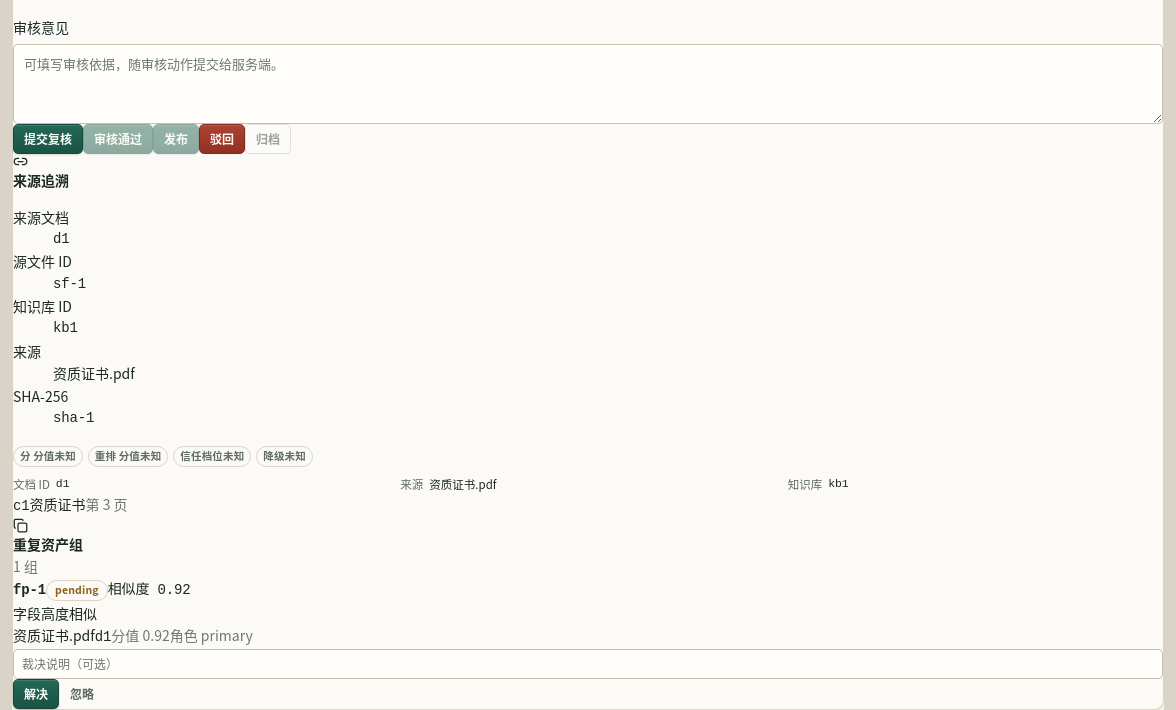
Test: KnowledgeAssetPanel › 重复组裁决提交 decide/note 并展示服务端返回的组状态
The width and height of the screenshot is (1176, 710).
(page scrolled)
In the field named "重复组 g1 处理意见": (588, 664) [13,648,1163,678], type "已确认"
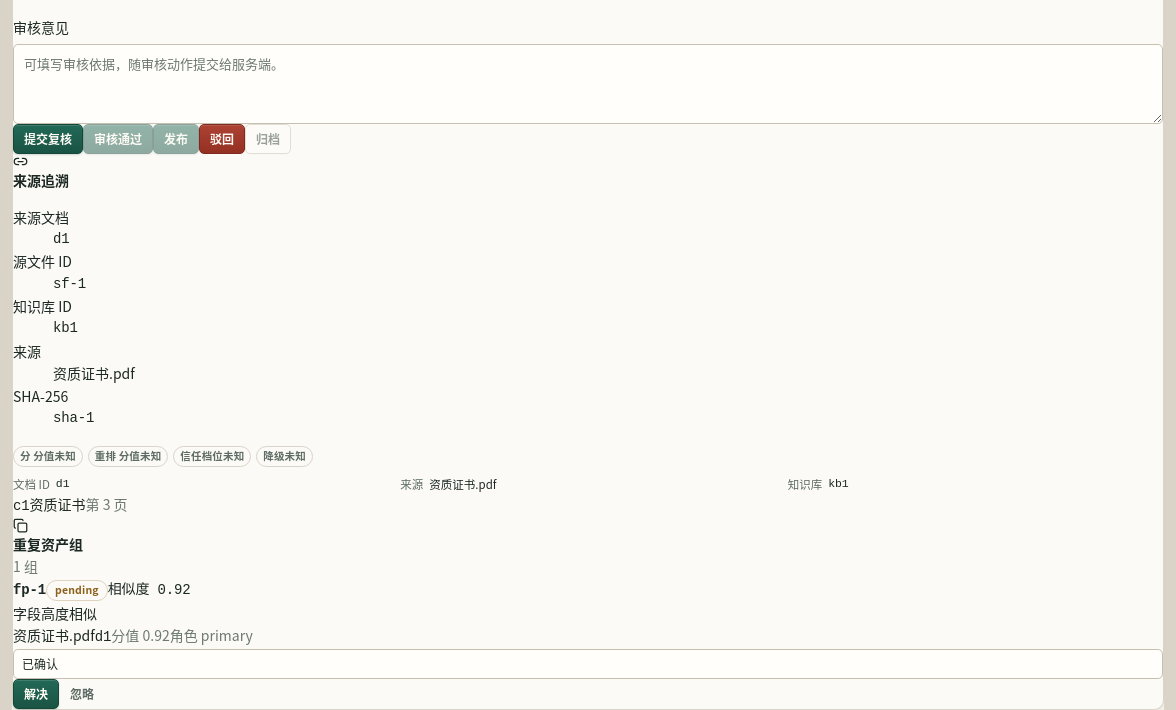
Click the button "解决": (36, 694) [13,678,59,708]
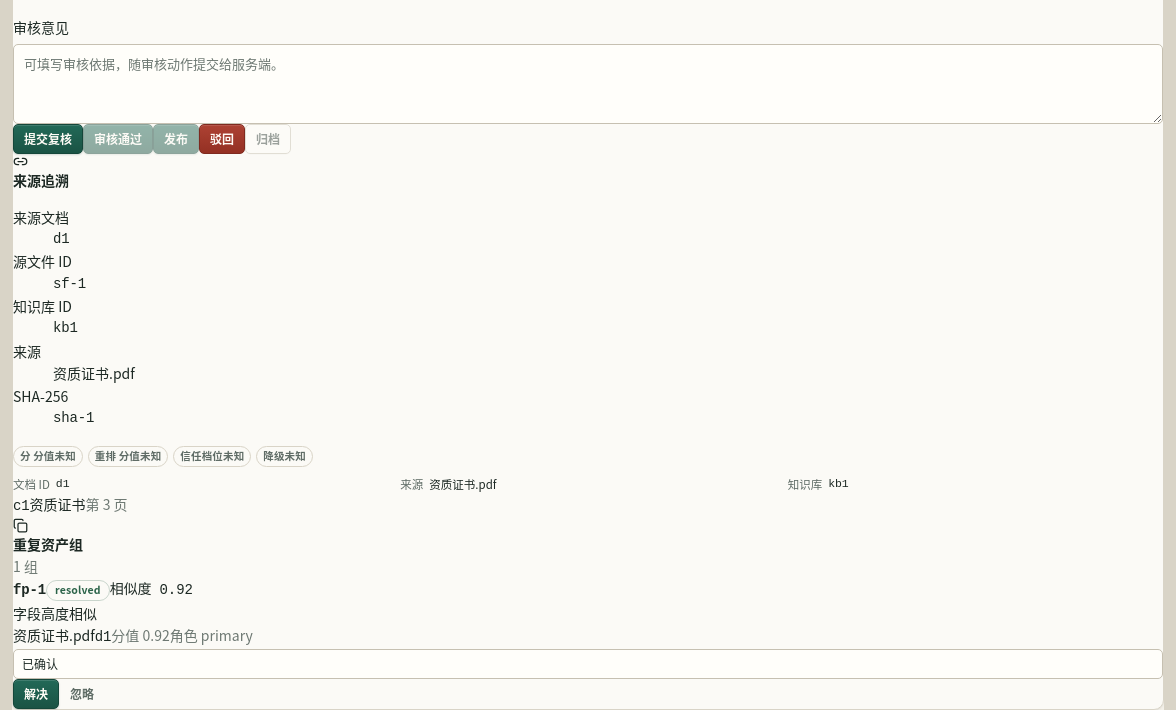
Check: the text "resolved" is shown, box [46,580,110,601]
